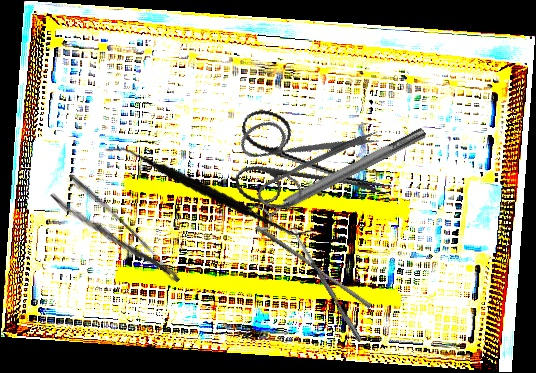Dressing Forceps: (49, 171, 183, 302)
Fixation Ring: (244, 119, 433, 236)
Iris Scissors: (218, 68, 385, 238), (225, 105, 403, 234)
Pusher: (252, 224, 375, 310)
Spatula Surgical: (104, 123, 315, 257)
Surgical Spoon: (289, 225, 364, 343)
